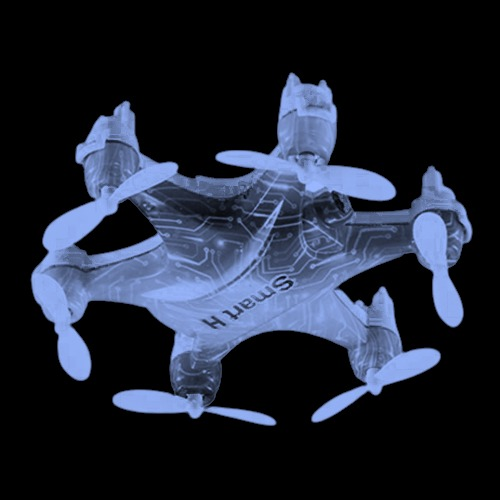drone: (29, 72, 472, 426)
